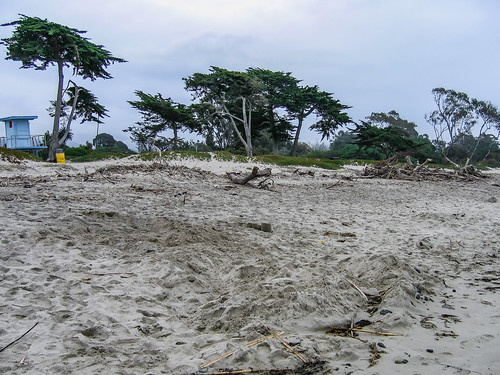beach: (1, 164, 500, 375)
sky: (96, 1, 500, 93)
tree: (22, 16, 116, 164), (199, 60, 349, 149), (434, 86, 500, 173), (126, 92, 196, 152), (356, 113, 428, 158)
